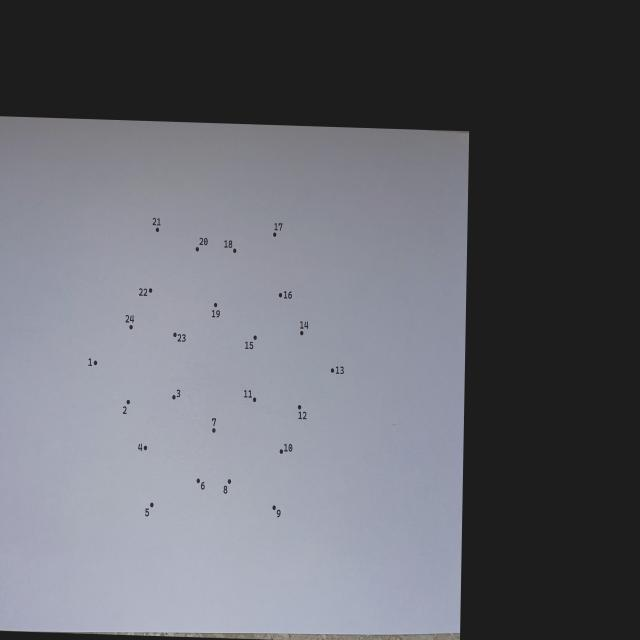Dot: (156, 227, 160, 233), (233, 248, 237, 254), (300, 330, 304, 336), (129, 324, 133, 330), (173, 332, 177, 338), (94, 360, 98, 366), (172, 394, 176, 400), (150, 502, 154, 508), (273, 232, 277, 237), (253, 335, 257, 340), (148, 288, 152, 293), (212, 428, 216, 433), (272, 505, 276, 510), (279, 292, 282, 298), (214, 302, 217, 308), (298, 404, 301, 410), (126, 400, 130, 404), (252, 398, 256, 402), (196, 247, 199, 252), (331, 368, 334, 373), (280, 449, 283, 454), (197, 478, 200, 483), (228, 479, 231, 484), (144, 446, 147, 450)
DotNumber: (224, 240, 237, 254), (196, 237, 208, 252), (245, 335, 257, 350), (152, 217, 162, 234), (125, 314, 135, 330), (279, 443, 293, 454), (244, 390, 256, 402), (273, 223, 283, 237), (278, 290, 292, 300), (138, 288, 153, 297), (298, 405, 307, 420), (145, 502, 154, 517), (173, 332, 186, 342), (300, 320, 308, 336), (212, 303, 220, 318), (224, 479, 232, 494), (272, 505, 281, 518), (331, 366, 344, 374), (211, 417, 217, 434), (172, 389, 181, 400), (123, 400, 130, 414), (197, 478, 205, 490), (88, 358, 98, 367), (138, 443, 148, 452)
Number: (138, 288, 148, 297), (298, 411, 307, 420), (284, 443, 293, 452), (300, 320, 308, 330), (152, 218, 161, 226), (224, 240, 233, 248), (274, 222, 283, 230), (177, 334, 186, 342), (335, 366, 344, 374), (284, 291, 292, 299), (212, 310, 220, 318), (126, 315, 134, 323), (244, 390, 252, 398), (199, 238, 208, 245), (245, 342, 254, 349), (223, 485, 228, 494), (145, 508, 150, 517), (212, 417, 216, 426), (201, 481, 205, 490), (277, 509, 281, 518), (123, 406, 127, 414), (138, 444, 142, 452), (89, 358, 92, 366), (177, 390, 180, 398)
